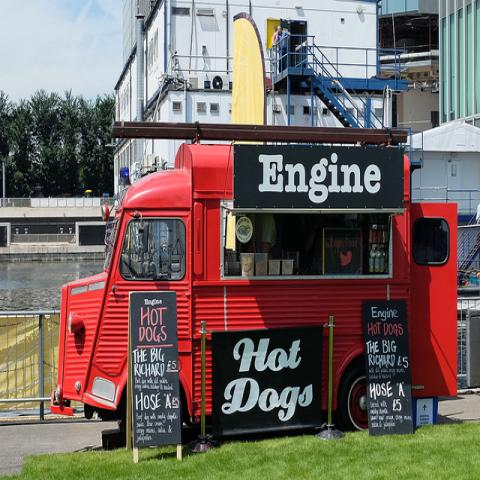truck: (52, 126, 460, 440)
